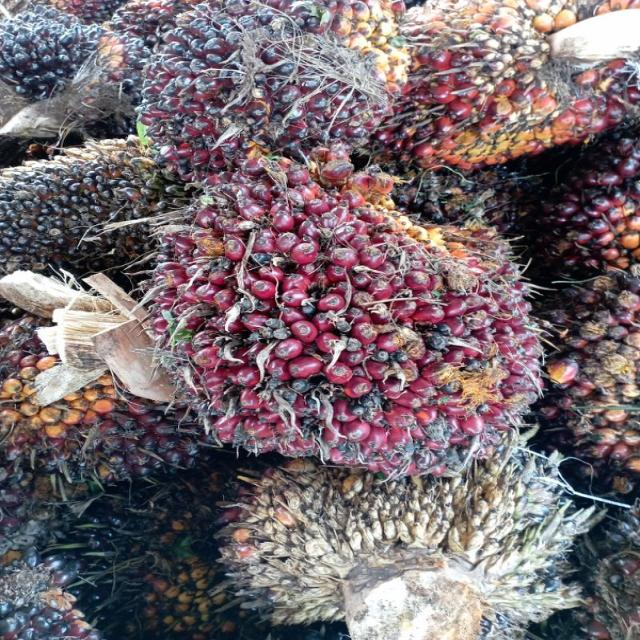fraksi 00: (3, 138, 172, 250), (0, 9, 118, 115)
fraksi 1: (140, 8, 390, 182)
fraksi 3: (148, 141, 552, 466), (386, 2, 638, 182)
